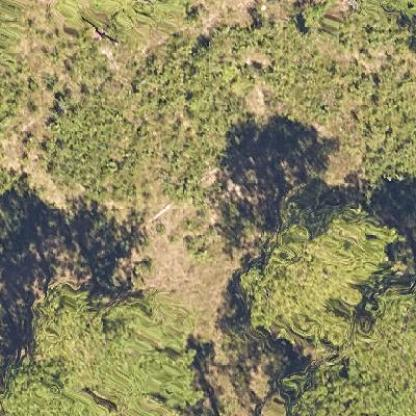tree-top: (238, 199, 392, 343), (285, 281, 413, 415), (31, 293, 192, 393)
